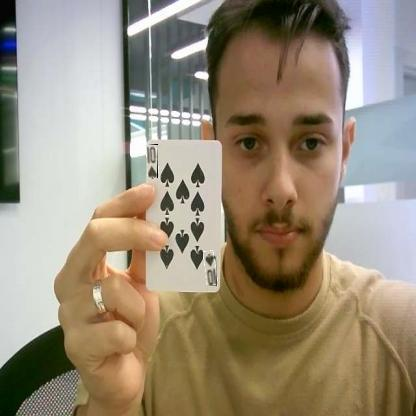10S: (205, 251, 217, 286), (147, 144, 158, 178)
